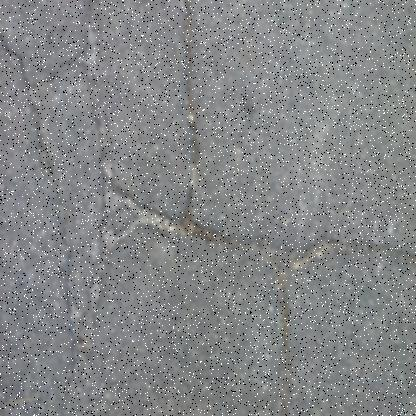Cracks: (0, 0, 139, 416), (140, 200, 415, 272), (260, 230, 295, 416), (180, 0, 202, 239)
